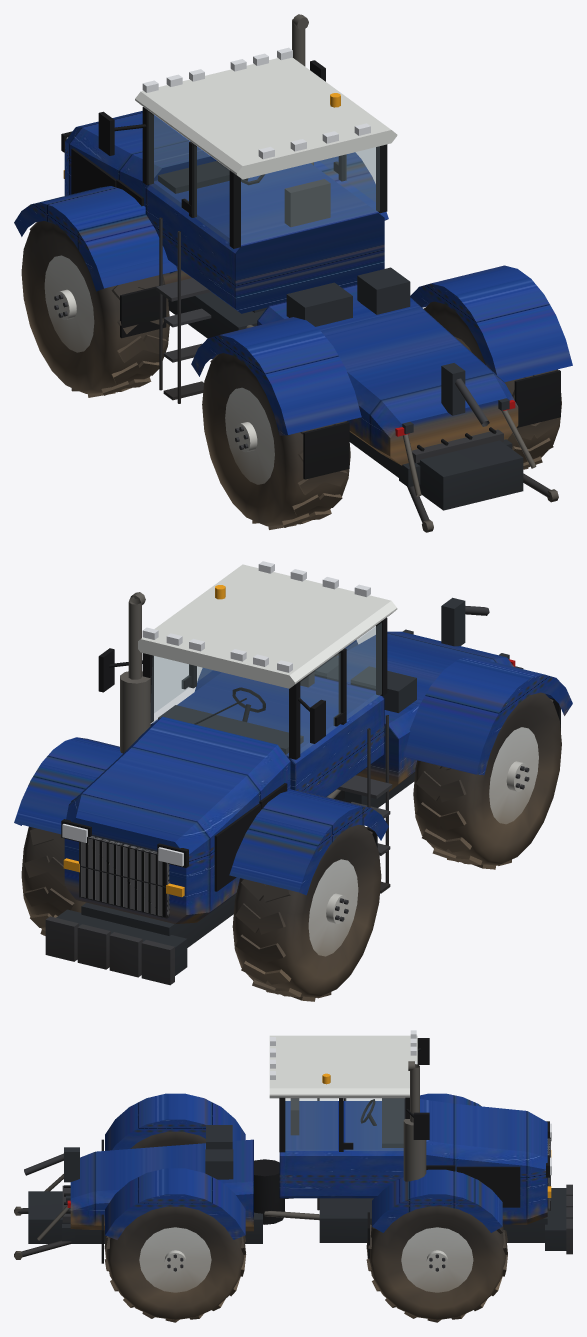
Rendered from Tractor_Heavy.glb.
3 renders of one model, top to bottom at view 1: azimuth 30°, elevation 25°; view 2: azimuth 150°, elevation 25°; view 3: azimuth 270°, elevation 25°, orthographic. The views are drawn at different scales.
Parts seen in each view (by area): view 1: Chassis_Front, Chassis_Rear, Wheel_FL, Wheel_RL, Wheel_RR; view 2: Chassis_Front, Chassis_Rear, Wheel_FL, Wheel_RL, Wheel_FR; view 3: Chassis_Front, Chassis_Rear, Wheel_FR, Wheel_RR, Wheel_RL.
Boxes of the visible parts, <box> form: Chassis_Front: <box>14,14,397,403</box>; Chassis_Rear: <box>191,265,572,532</box>; Wheel_FL: <box>21,221,169,397</box>; Wheel_RL: <box>202,353,350,529</box>; Wheel_RR: <box>423,301,561,469</box>; Chassis_Front: <box>14,561,397,985</box>; Chassis_Rear: <box>194,597,572,807</box>; Wheel_FL: <box>232,824,381,1001</box>; Wheel_RL: <box>413,692,561,869</box>; Wheel_FR: <box>21,826,86,935</box>; Chassis_Front: <box>264,1030,572,1258</box>; Chassis_Rear: <box>14,1093,284,1263</box>; Wheel_FR: <box>366,1206,507,1322</box>; Wheel_RR: <box>104,1206,246,1322</box>; Wheel_RL: <box>130,1131,205,1148</box>.
Bounding box in the file's own units: 3.56 × 4.02 × 8.34.
Materials: 2 (1 with a texture image).
